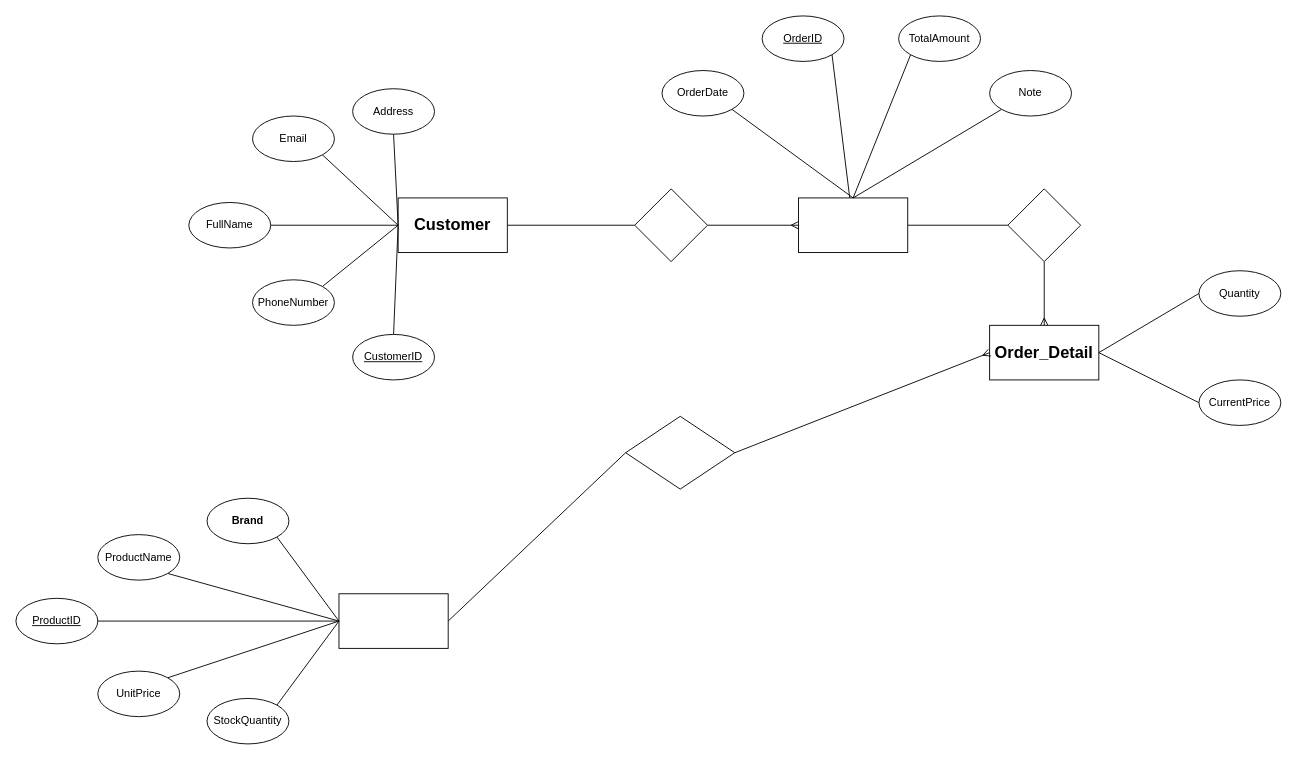
The diagram is 1297 pixels wide and 760 high, and some of its shapes have lost their labels. The shapes that lost their labels are listed below. From the top down, each one's centre as x and y in pixels, then its label:
At (x=671, y=225): "Đặt".
At (x=853, y=225): "Order".
At (x=1044, y=225): "Có".
At (x=680, y=452): "Thuộc về".
At (x=393, y=620): "Product".
